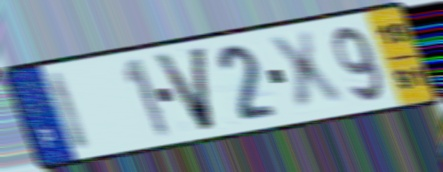1: (122, 55, 174, 142)
2: (219, 41, 286, 126)
9: (332, 23, 386, 104)
I: (46, 68, 95, 154)
V: (150, 44, 217, 135)
X: (263, 27, 349, 116)
